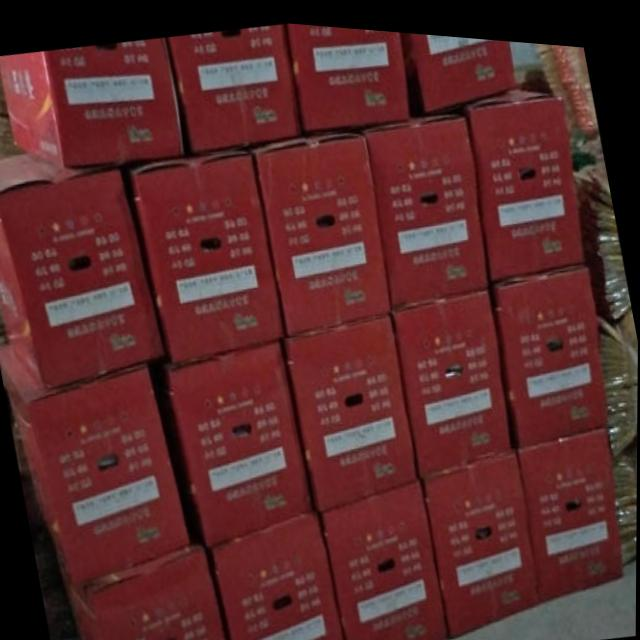box: (0, 340, 191, 584), (0, 151, 167, 389), (120, 142, 286, 359), (238, 120, 391, 333), (155, 337, 313, 543), (441, 79, 585, 272), (353, 103, 490, 303), (285, 308, 418, 506), (0, 35, 184, 167), (419, 439, 541, 630), (391, 280, 512, 472), (488, 257, 612, 437), (319, 473, 451, 640), (517, 417, 625, 593), (50, 536, 228, 640), (208, 508, 347, 640), (166, 21, 302, 152), (283, 19, 410, 127), (400, 26, 515, 111)
